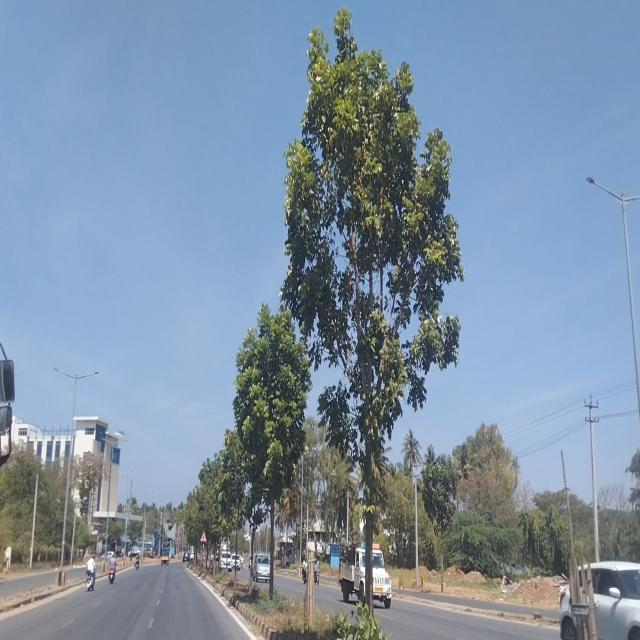bien_cam: (199, 529, 207, 544)
